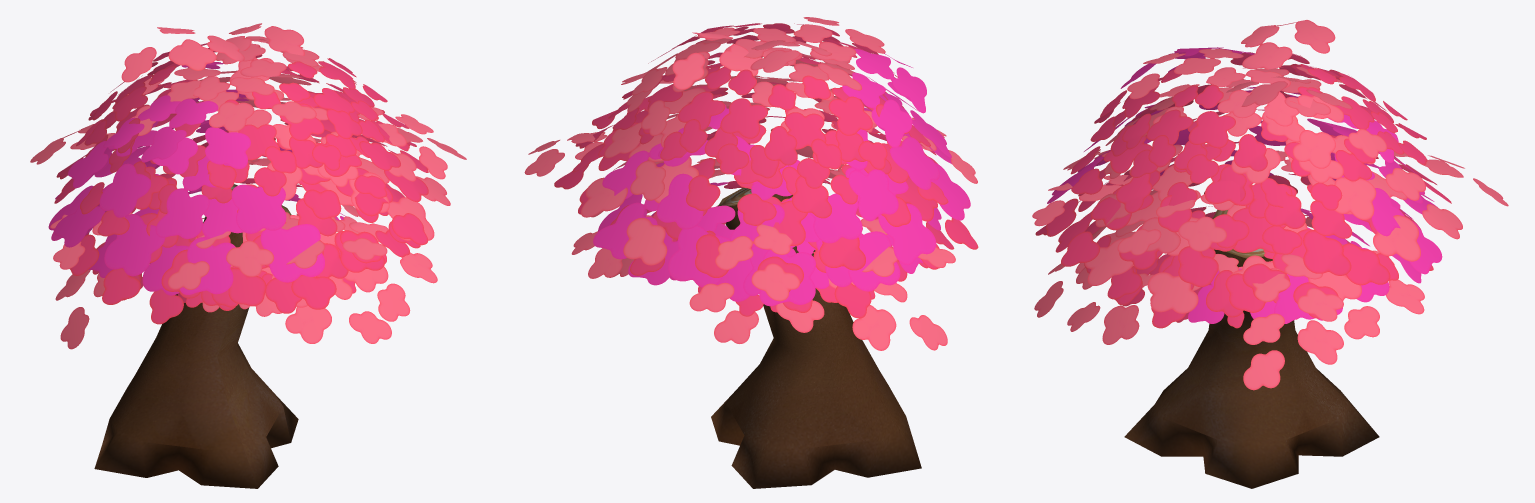
Rendered from sakura2.glb.
The picture shows the model from 3 angles, left to right: view 1: azimuth 30°, elevation 25°; view 2: azimuth 150°, elevation 25°; view 3: azimuth 270°, elevation 25°; orthographic projection. The views are drawn at different scales.
Parts seen in each view (by area): view 1: sprout.004_12; view 2: sprout.004_12; view 3: sprout.004_12.
Boxes of the visible parts, x1,y1,x2,y2 form: sprout.004_12: (30,23,466,488); sprout.004_12: (524,17,978,488); sprout.004_12: (1032,20,1508,488).
Bounding box in the file's own units: 1.52 × 1.38 × 1.5.
1 material, 1 textured.
